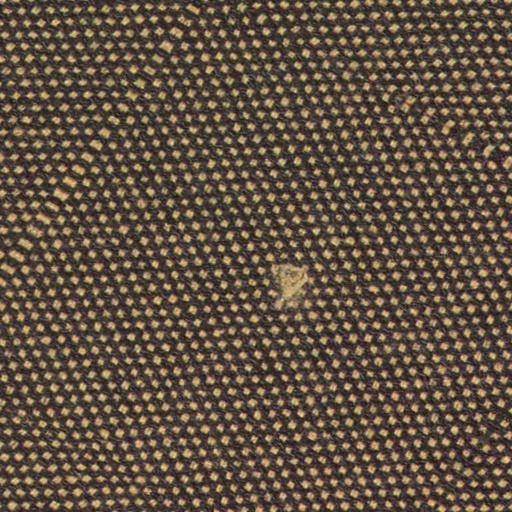knot: (263, 255, 325, 312)
